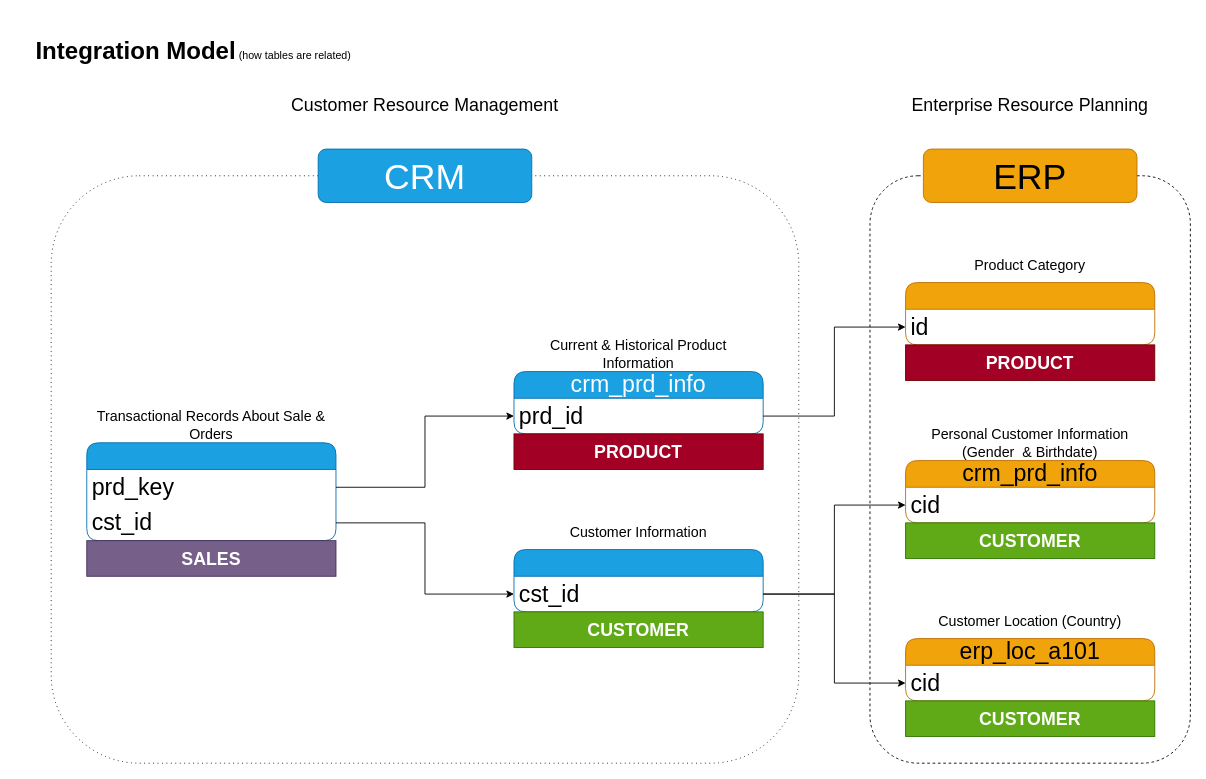
Image size: 1206x779. Some labels were removed from this diagram. The box of each missing label's shape, as (x1, y1, x2, y2) in pixels:
crm_cust_info: (513, 549, 763, 612)
crm_sales_details: (86, 442, 336, 541)
erp_px_cat_g1v2: (905, 282, 1155, 345)
